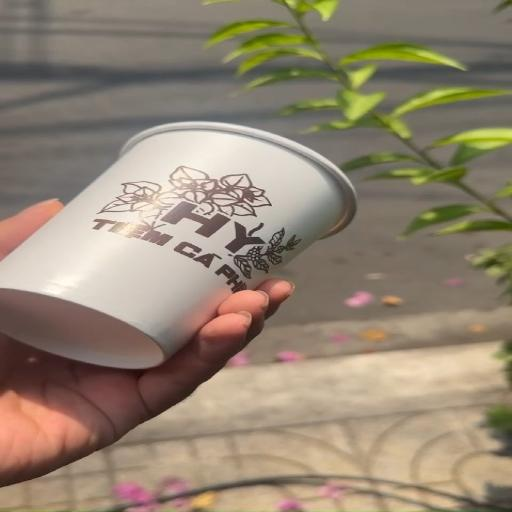Ly_giay: (0, 122, 355, 368)
